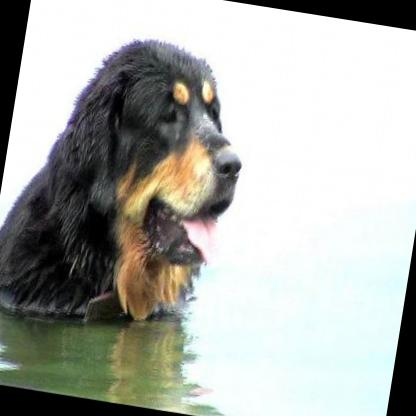Tibetan_mastiff: (0, 16, 259, 352)
